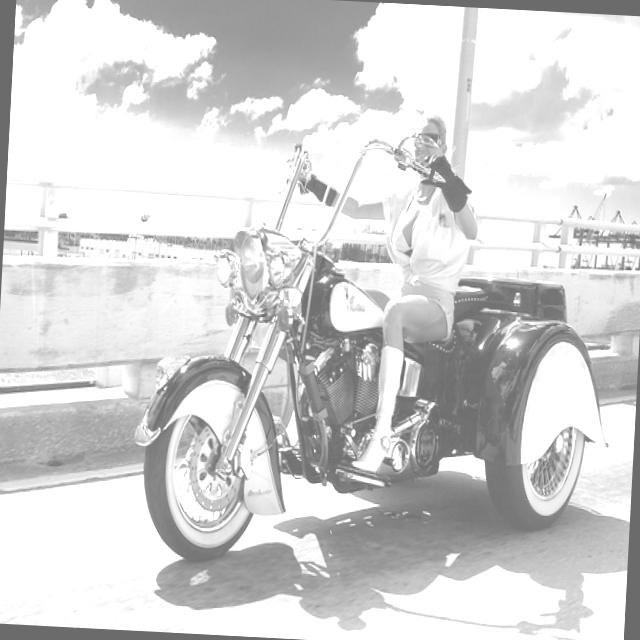Vehicle: (128, 121, 625, 583)
